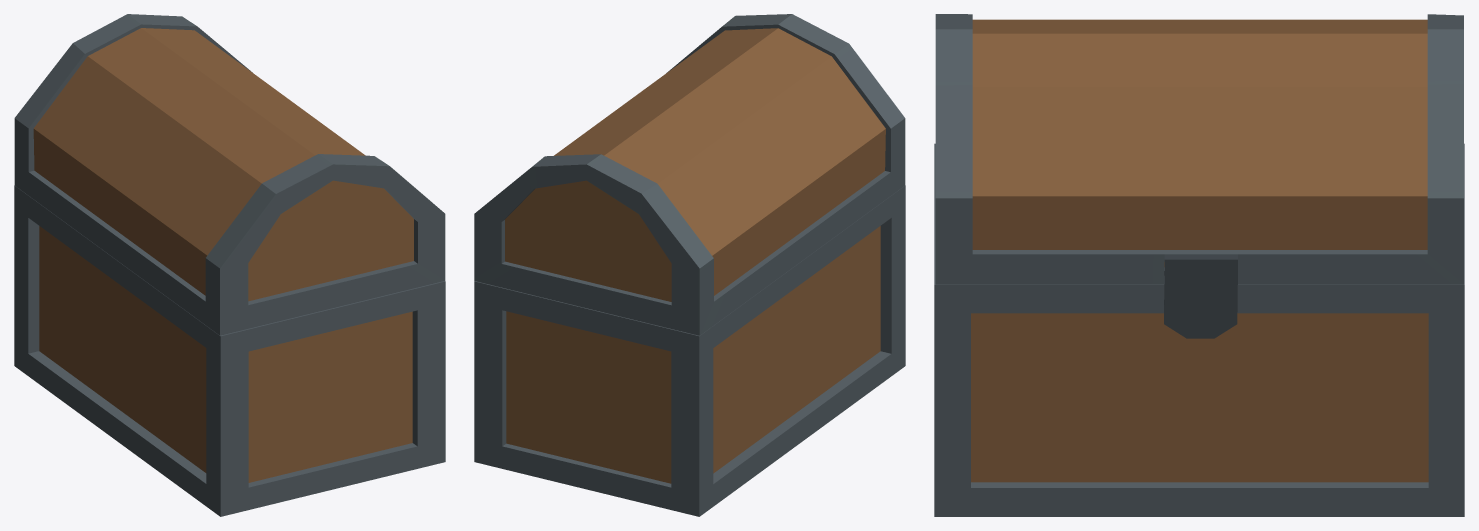
The model's file is Chest-A02.fbx.
3 views of the same model, side by side, from view 1: azimuth 30°, elevation 25°; view 2: azimuth 150°, elevation 25°; view 3: azimuth 270°, elevation 25° (orthographic). The views are drawn at different scales.
Parts seen in each view (by area): view 1: Chest-A-top, Chest-A02; view 2: Chest-A-top, Chest-A02; view 3: Chest-A-top, Chest-A02.
Part boxes in pixels (x1,y1,x2,y2): Chest-A-top: (14,14,445,335); Chest-A02: (14,185,445,516); Chest-A-top: (474,14,905,335); Chest-A02: (474,185,905,516); Chest-A-top: (935,14,1463,338); Chest-A02: (934,143,1464,516).
Bounding box in the file's own units: 65.82 × 87.36 × 101.
